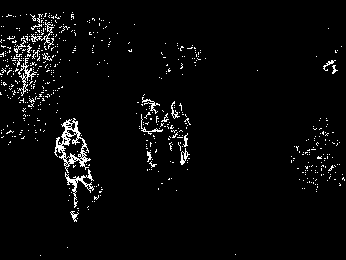person: (53, 116, 103, 224), (135, 90, 164, 169), (162, 98, 192, 169)
